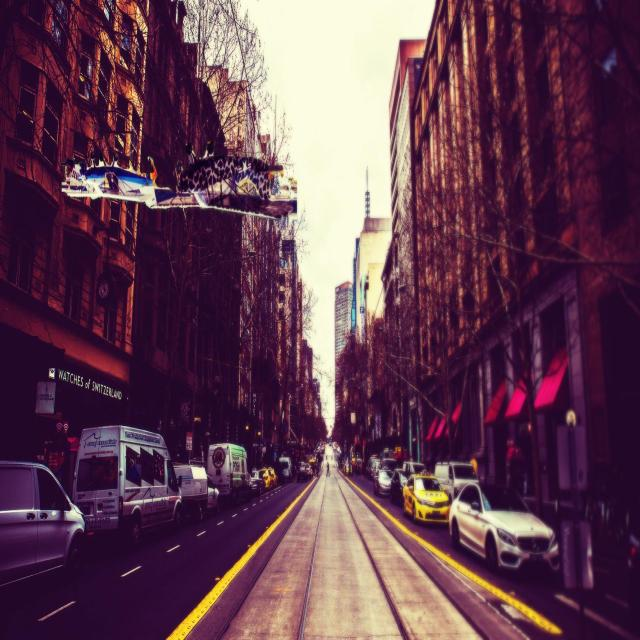airplane: (60, 139, 298, 218)
